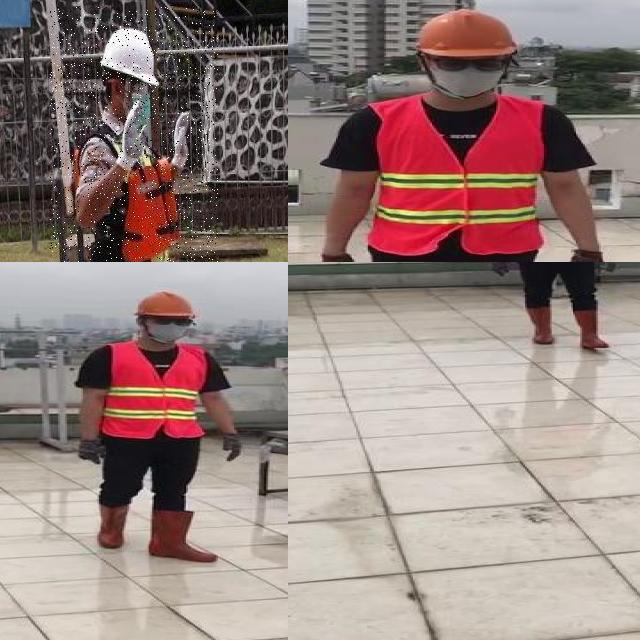boots: (149, 511, 216, 563), (95, 500, 129, 550), (571, 309, 607, 350), (522, 306, 556, 345)
face_mask: (428, 51, 510, 98), (142, 314, 196, 342)
glasses: (427, 50, 512, 76), (147, 314, 195, 328)
hand_glove: (74, 437, 106, 461), (222, 432, 241, 462), (569, 251, 608, 262), (491, 262, 509, 277), (597, 262, 617, 272)
head_helmet: (407, 4, 519, 58), (97, 20, 165, 90), (131, 290, 198, 318)
person: (308, 3, 619, 262), (68, 286, 246, 570), (50, 7, 218, 262), (484, 262, 628, 351)
vest: (370, 98, 540, 256), (68, 113, 187, 262), (104, 340, 208, 439)
